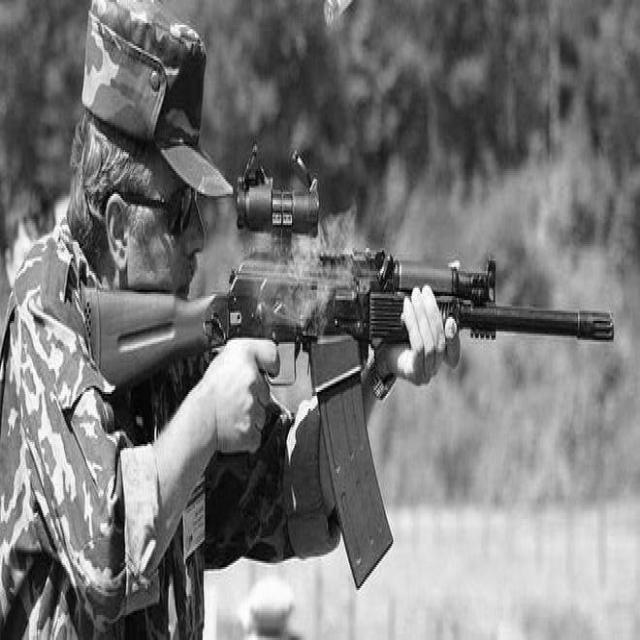gun: (79, 140, 615, 590)
